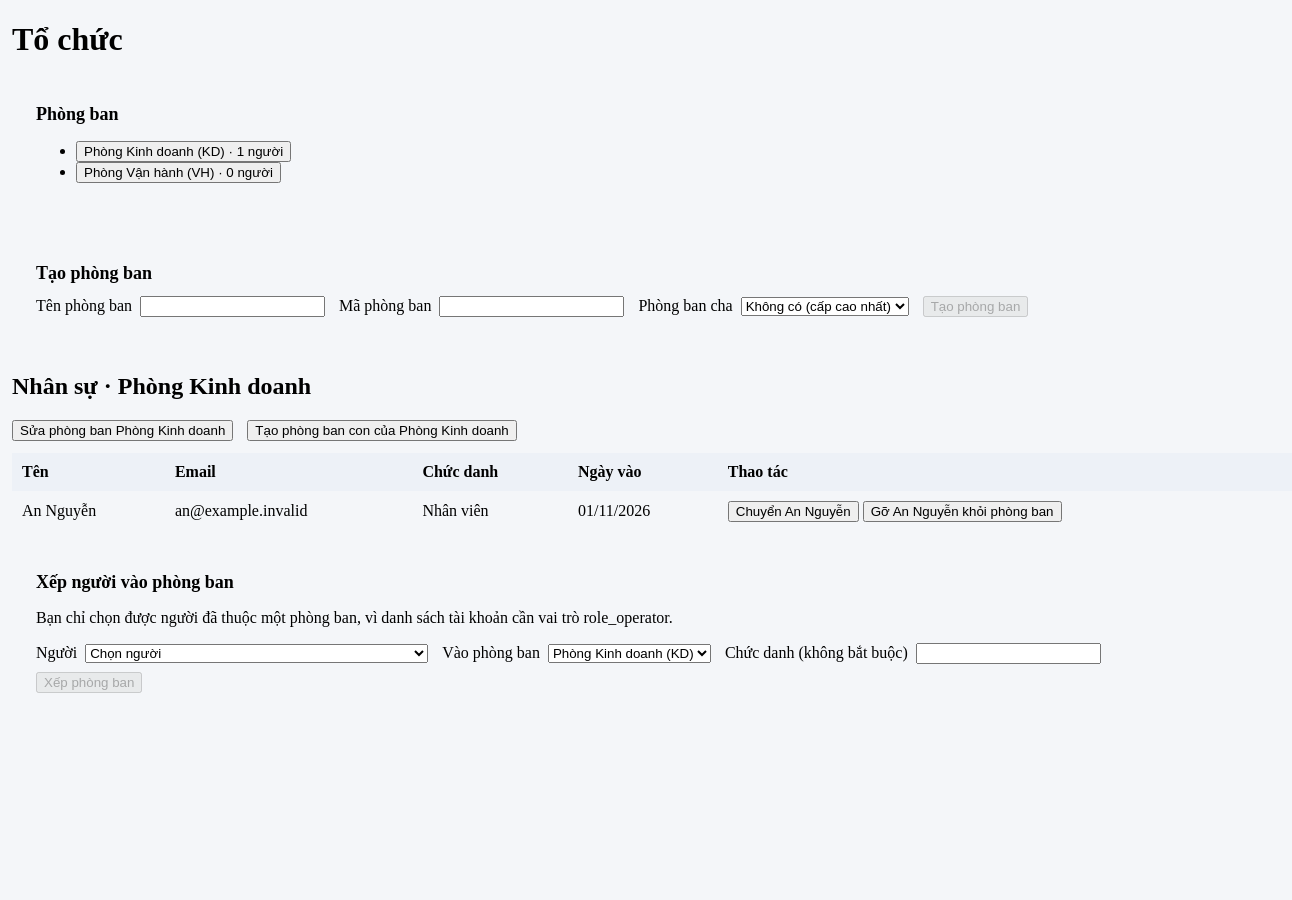
Test: moves a person to another department
This screenshot has width=1292, height=900.
Click the button "Chuyển An Nguyễn".
click(793, 511)  # box [728,501,859,522]
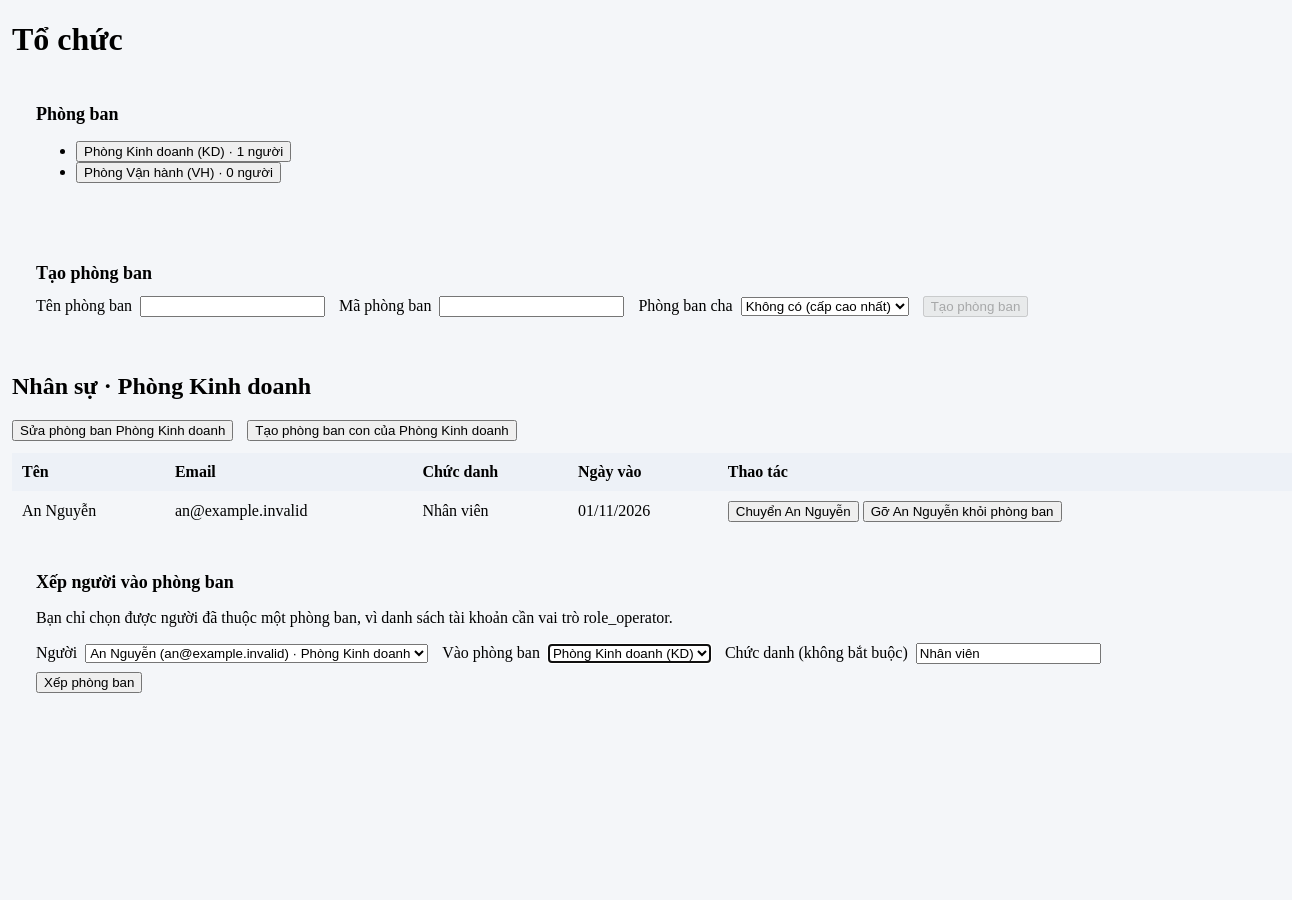
Check: the field labelled "Chức danh (không bắt buộc)" holds "Nhân viên", box [916,643,1101,664]
Select "Phòng Vận hành (VH)" in the dropdown labelled "Vào phòng ban" at (629,653), box [548,644,711,663]
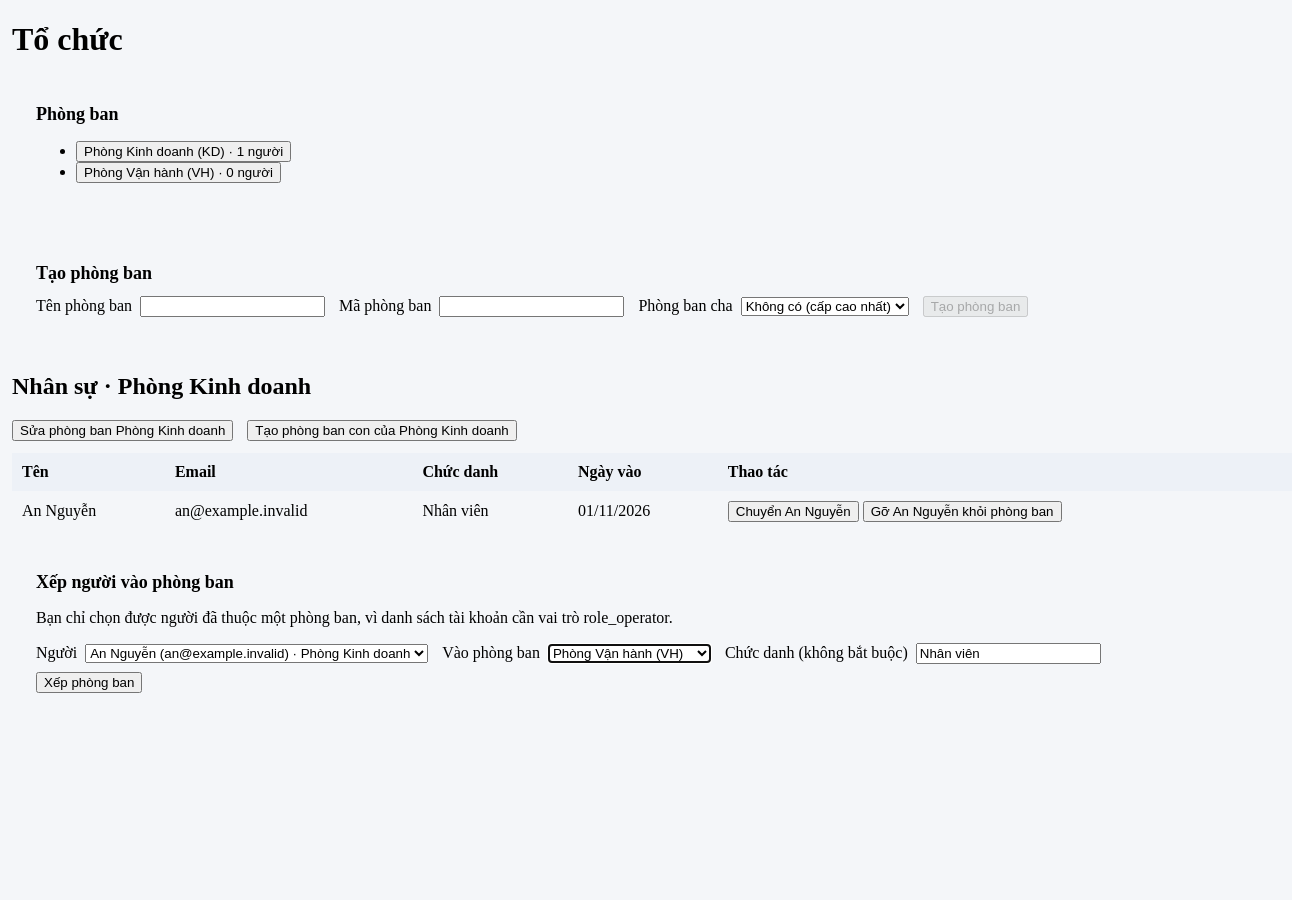
Click the button "Xếp phòng ban".
click(89, 682)  # box [36,672,142,693]
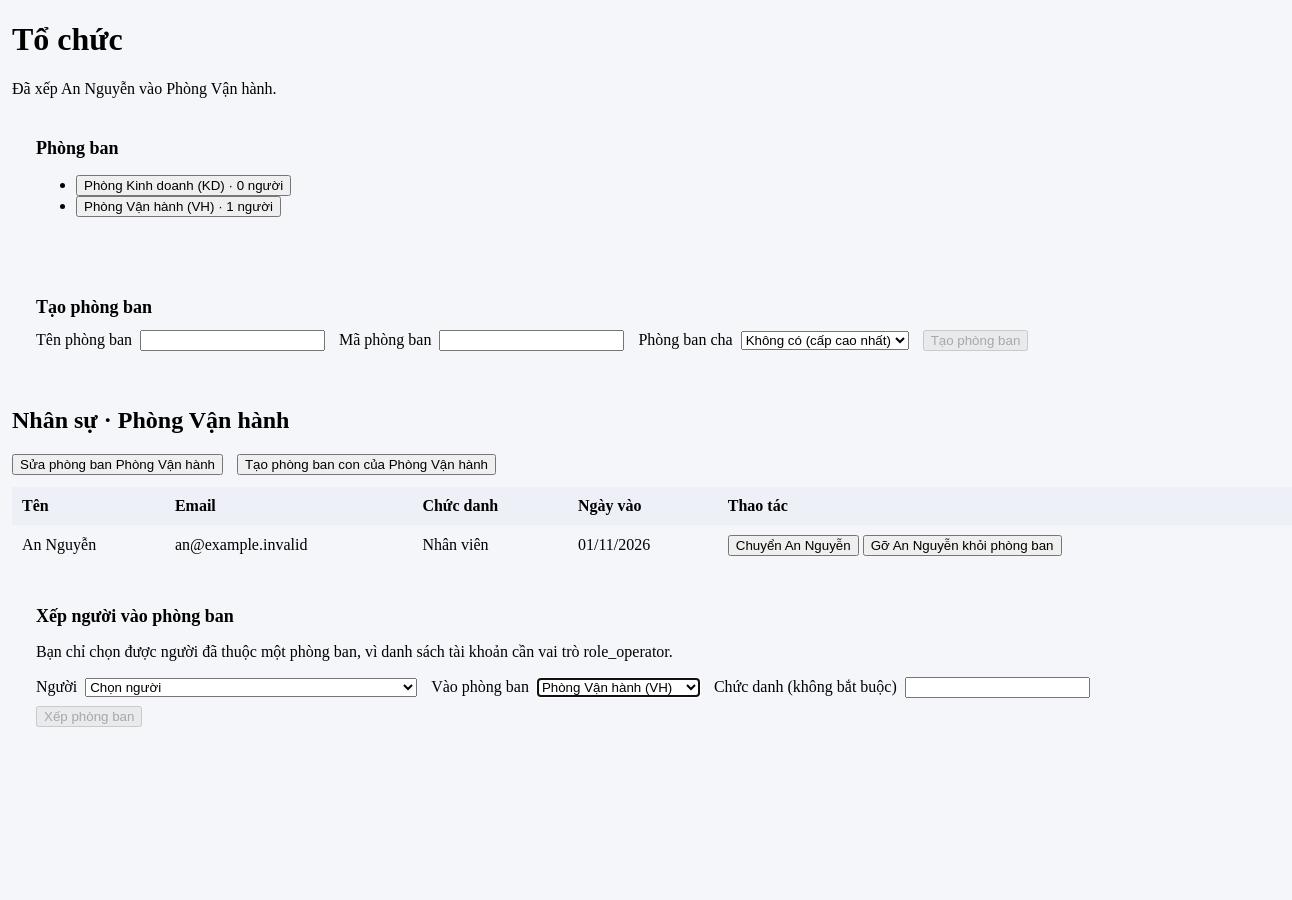
Check: the message reads "Đã xếp An Nguyễn vào Phòng Vận hành.", box [12,80,277,97]
Check: the heading "Nhân sự · Phòng Vận hành" is shown, box [12,407,289,433]
Check: the button "Phòng Kinh doanh (KD) · 0 người" is shown, box [76,175,291,196]
